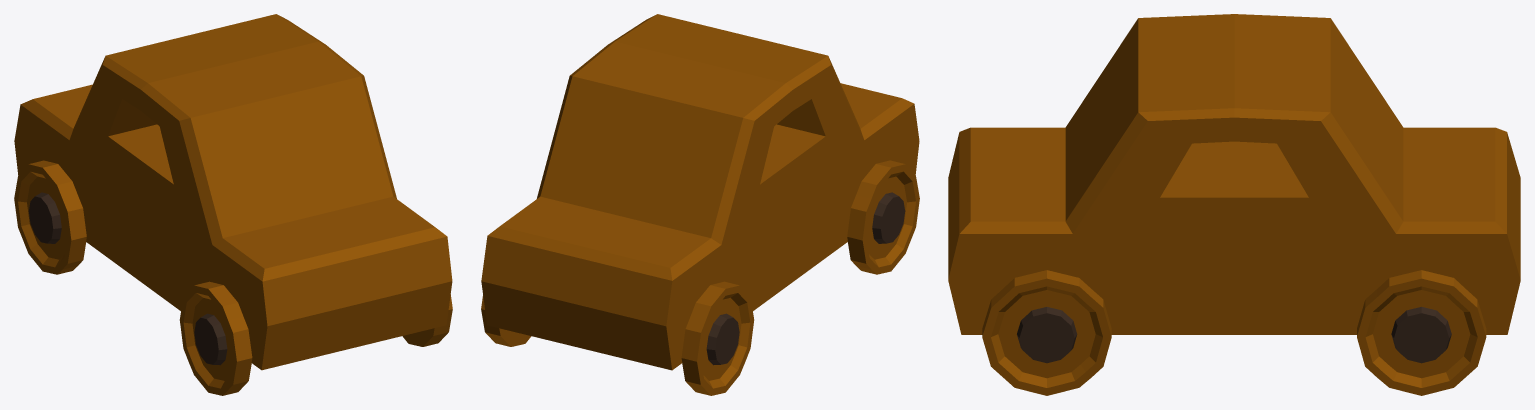
Rendered from WoodCar.fbx.
3 views of the same model, side by side, from view 1: azimuth 30°, elevation 25°; view 2: azimuth 150°, elevation 25°; view 3: azimuth 270°, elevation 25° (orthographic). The views are drawn at different scales.
Parts seen in each view (by area): view 1: Car, Wheel_2, Wheel_3, Wheel_4; view 2: Car, Wheel_3, Wheel_2, Wheel_1; view 3: Car, Wheel_1, Wheel_4.
Part boxes in pixels (bbox=[...]): Car: bbox=[14, 14, 452, 370]; Wheel_2: bbox=[14, 160, 86, 274]; Wheel_3: bbox=[179, 281, 252, 395]; Wheel_4: bbox=[402, 294, 452, 346]; Car: bbox=[481, 14, 919, 370]; Wheel_3: bbox=[847, 160, 919, 274]; Wheel_2: bbox=[681, 281, 754, 395]; Wheel_1: bbox=[481, 295, 531, 346]; Car: bbox=[948, 14, 1520, 334]; Wheel_1: bbox=[1357, 270, 1486, 395]; Wheel_4: bbox=[982, 270, 1111, 395].
Size of the model in its own units: 24.46 by 25.92 by 48.87.
